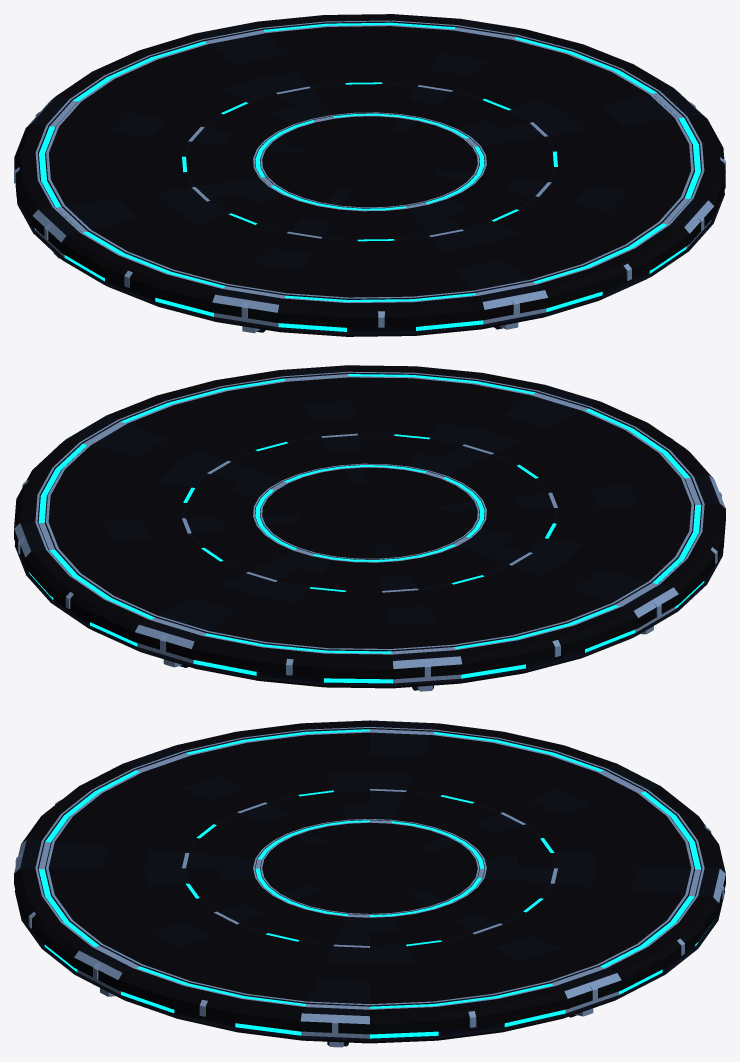
File: SM_Hub_PlazaPlatform_01.glb
3 renders of one model, top to bottom at view 1: azimuth 30°, elevation 25°; view 2: azimuth 150°, elevation 25°; view 3: azimuth 270°, elevation 25°, orthographic.
Visible parts, largest first — view 1: GEO_PlazaPlatform_Deck, GEO_PlazaPlatform_DeckInlays, GEO_PlazaPlatform_Rim, GEO_PlazaPlatform_Trim, GEO_PlazaPlatform_CyanAccents, GEO_PlazaPlatform_Structure; view 2: GEO_PlazaPlatform_Deck, GEO_PlazaPlatform_DeckInlays, GEO_PlazaPlatform_Rim, GEO_PlazaPlatform_Trim, GEO_PlazaPlatform_CyanAccents, GEO_PlazaPlatform_Structure; view 3: GEO_PlazaPlatform_Deck, GEO_PlazaPlatform_DeckInlays, GEO_PlazaPlatform_Rim, GEO_PlazaPlatform_Trim, GEO_PlazaPlatform_CyanAccents, GEO_PlazaPlatform_Structure.
Boxes of the visible parts, x1=… form: GEO_PlazaPlatform_Deck: x1=49, y1=26, x2=690, y2=297; GEO_PlazaPlatform_DeckInlays: x1=38, y1=21, x2=701, y2=299; GEO_PlazaPlatform_Rim: x1=14, y1=14, x2=725, y2=336; GEO_PlazaPlatform_Trim: x1=14, y1=20, x2=725, y2=333; GEO_PlazaPlatform_CyanAccents: x1=34, y1=22, x2=711, y2=331; GEO_PlazaPlatform_Structure: x1=17, y1=19, x2=724, y2=334; GEO_PlazaPlatform_Deck: x1=48, y1=377, x2=691, y2=648; GEO_PlazaPlatform_DeckInlays: x1=37, y1=372, x2=702, y2=651; GEO_PlazaPlatform_Rim: x1=14, y1=365, x2=725, y2=688; GEO_PlazaPlatform_Trim: x1=14, y1=371, x2=725, y2=691; GEO_PlazaPlatform_CyanAccents: x1=29, y1=374, x2=704, y2=683; GEO_PlazaPlatform_Structure: x1=14, y1=365, x2=723, y2=690; GEO_PlazaPlatform_Deck: x1=48, y1=732, x2=691, y2=1003; GEO_PlazaPlatform_DeckInlays: x1=37, y1=728, x2=702, y2=1006; GEO_PlazaPlatform_Rim: x1=14, y1=720, x2=725, y2=1043; GEO_PlazaPlatform_Trim: x1=14, y1=727, x2=725, y2=1047; GEO_PlazaPlatform_CyanAccents: x1=38, y1=729, x2=710, y2=1038; GEO_PlazaPlatform_Structure: x1=14, y1=720, x2=725, y2=1046.
Size of the model in its own units: 140 by 12 by 140.
4 materials, 4 textured.
